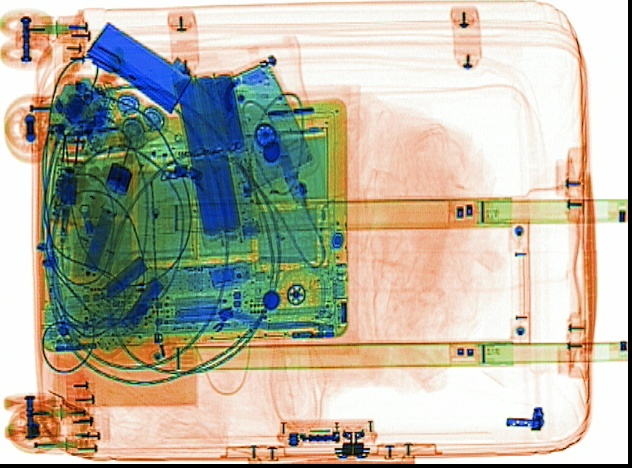powerbank: (171, 69, 262, 243)
